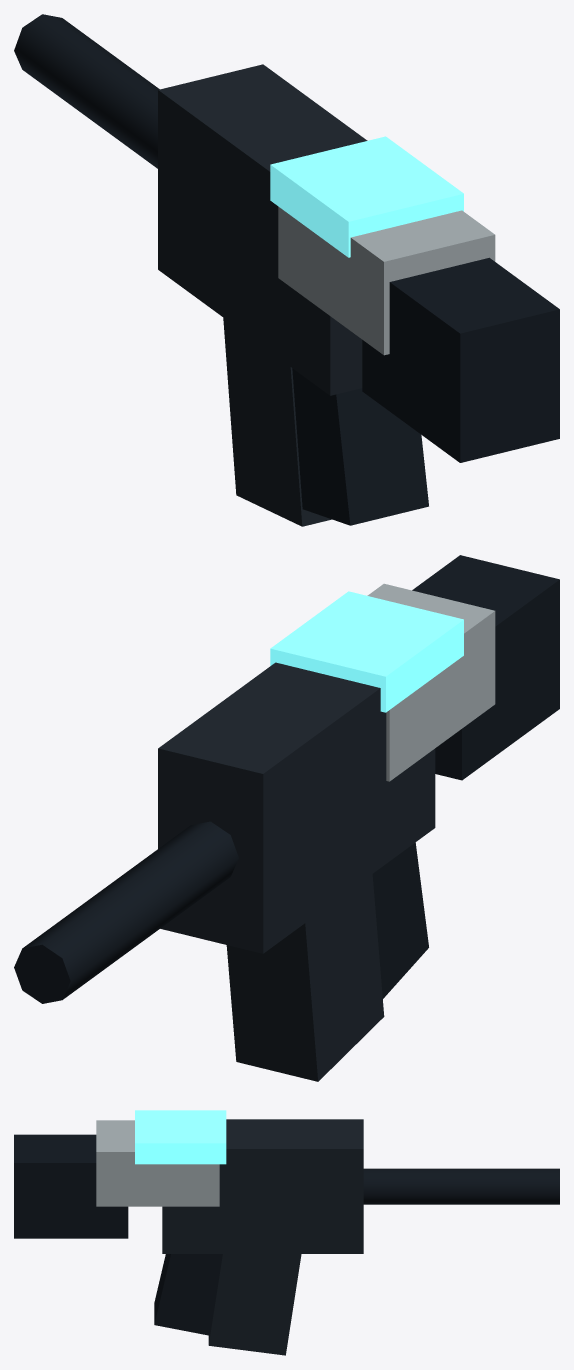
The model's file is np_z05_mitraillette_ameliore.glb.
The picture shows the model from 3 angles, top to bottom: view 1: azimuth 30°, elevation 25°; view 2: azimuth 150°, elevation 25°; view 3: azimuth 270°, elevation 25°; orthographic projection. The views are drawn at different scales.
Visible parts, largest first — view 1: Corps, Crosse, Culasse, Poignee, ModuleAmeliore, Chargeur, Canon; view 2: Corps, Chargeur, Canon, Crosse, ModuleAmeliore, Culasse, Poignee; view 3: Corps, Crosse, Chargeur, Canon, Culasse, ModuleAmeliore, Poignee.
Boxes of the visible parts, x1,y1,x2,y2 form: Corps: (158,64,367,395); Crosse: (362,257,559,462); Culasse: (278,206,495,355); Poignee: (292,368,428,525); ModuleAmeliore: (270,136,463,257); Chargeur: (223,318,331,526); Canon: (14,14,159,168); Corps: (158,662,435,953); Chargeur: (226,874,384,1081); Canon: (14,821,238,1003); Crosse: (412,555,559,780); ModuleAmeliore: (270,591,463,712); Culasse: (367,583,495,781); Poignee: (372,842,428,998); Corps: (162,1119,363,1253); Crosse: (14,1134,128,1238); Chargeur: (208,1254,301,1355); Canon: (363,1168,559,1204); Culasse: (96,1120,219,1206); ModuleAmeliore: (135,1110,226,1164); Poignee: (154,1254,222,1335).
Size of the model in its own units: 0.121 by 0.3723 by 0.8484.
